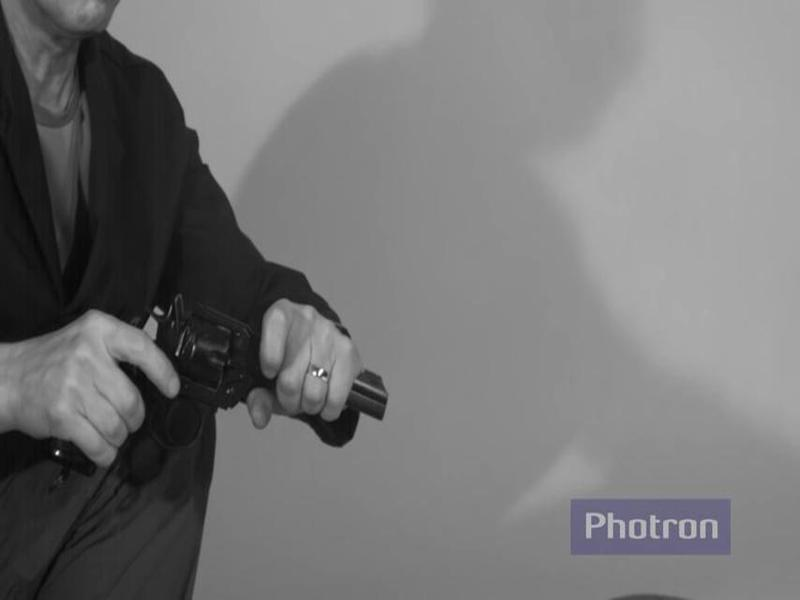Revolver: (54, 280, 407, 496)
